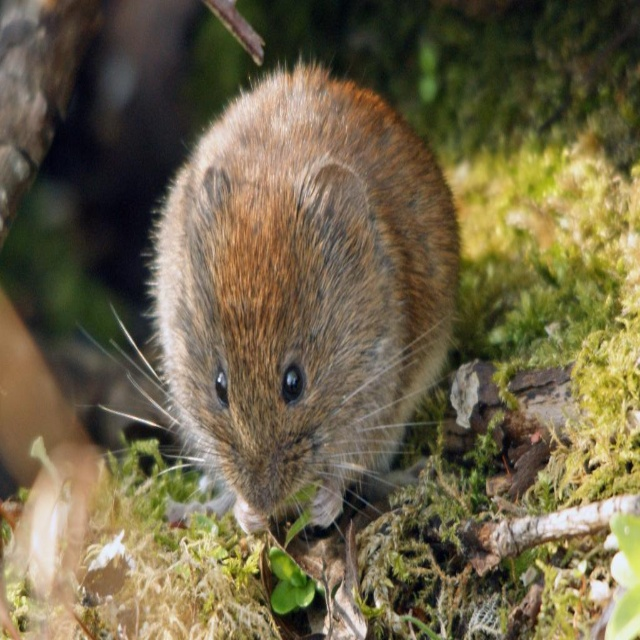Mouse: (73, 41, 469, 561)
